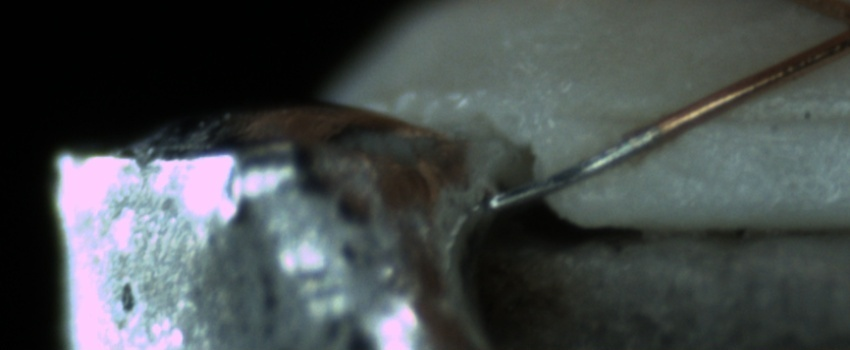DL: (574, 90, 849, 149)
TS: (484, 125, 663, 215)
